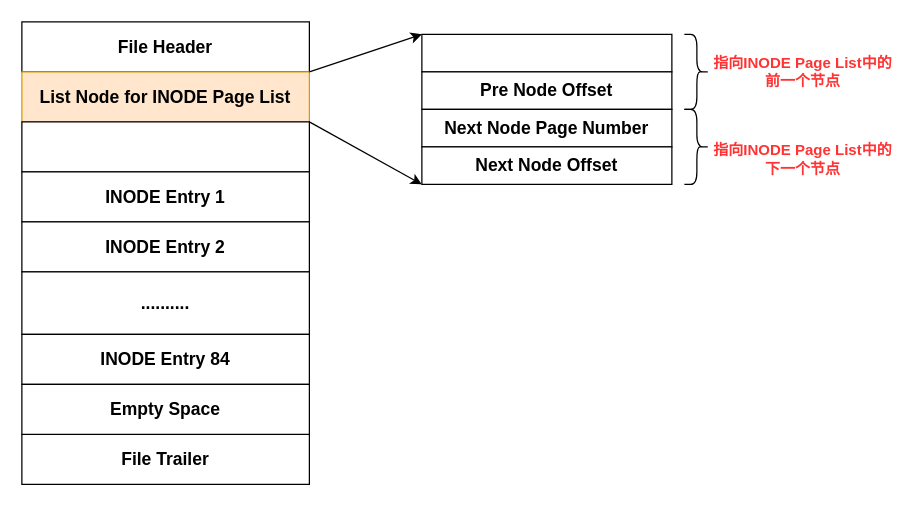
Some shapes in this 919 by 506 pixel diagram are drawn without their labels. Here are the shapes that lost their labels. From the top down, the centre of each, then its label:
At (x=546, y=52): "Pre Node Page Number".
At (x=165, y=146): "INODE Entry 0".
